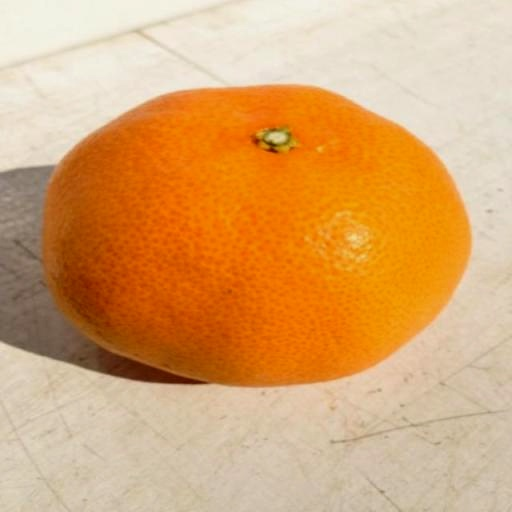fruit: (433, 124, 495, 420)
